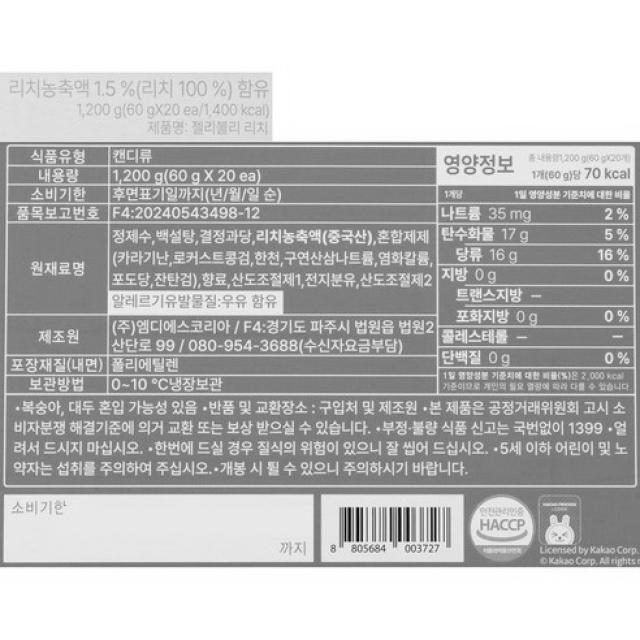Nutrition Label: (432, 132, 640, 404)
